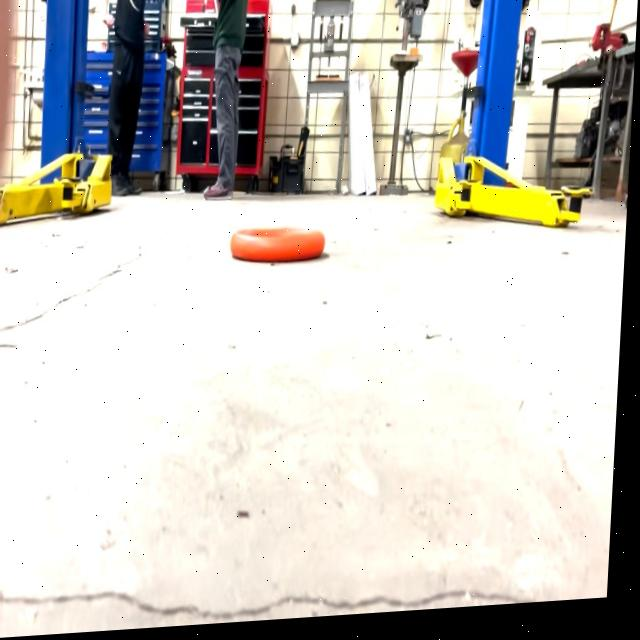note: (232, 225, 328, 272)
